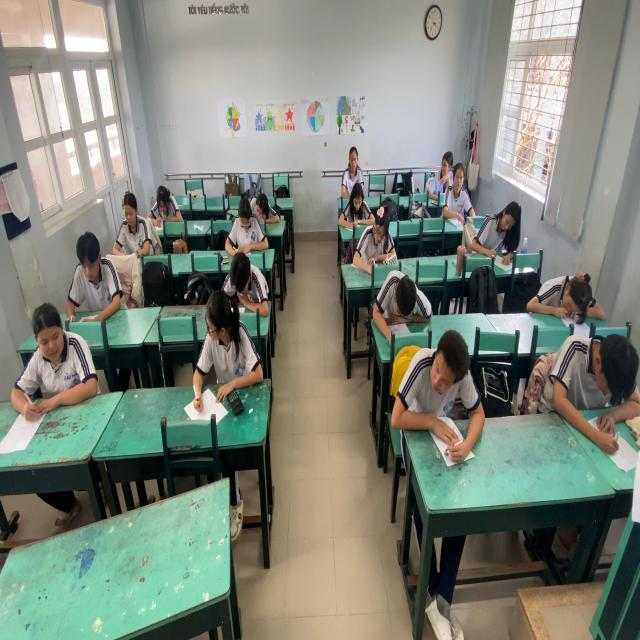cheating: (398, 320, 483, 469), (23, 298, 93, 430), (188, 287, 257, 406), (432, 142, 454, 193)
not_cheating: (554, 308, 634, 490), (534, 247, 598, 335), (67, 226, 122, 321), (470, 186, 522, 270), (212, 247, 274, 316), (377, 257, 426, 330), (355, 196, 393, 278), (440, 154, 479, 220), (116, 184, 150, 256), (232, 195, 266, 244), (151, 176, 177, 233), (248, 176, 278, 223), (340, 139, 368, 187), (344, 178, 369, 227)
